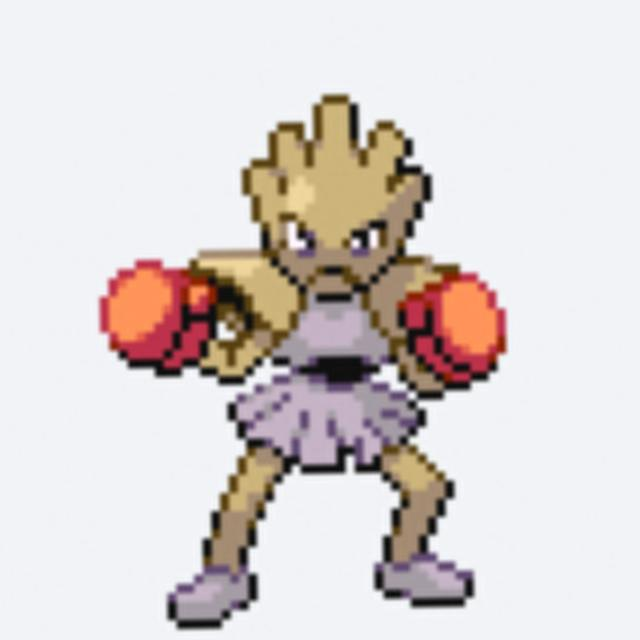Hitmonchan: (146, 154, 485, 596)
